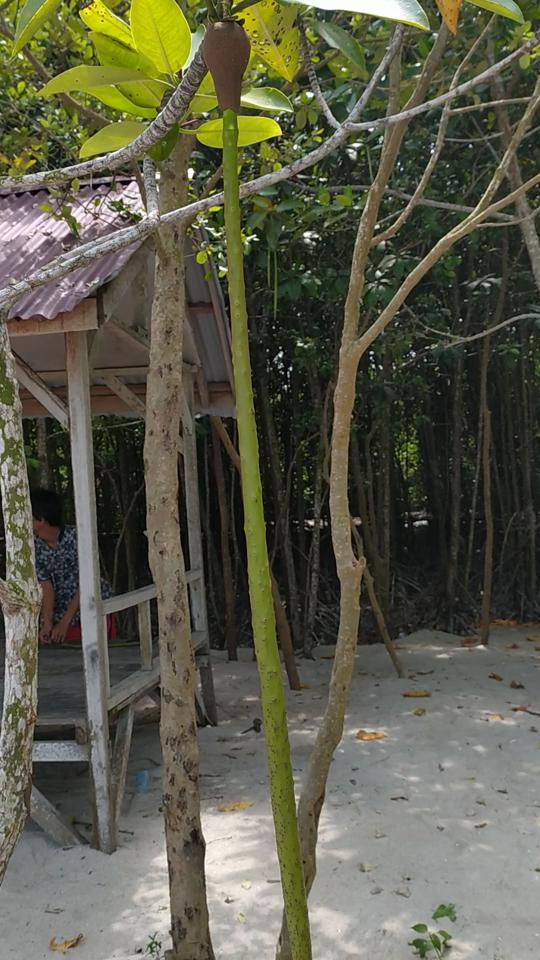mentah: (180, 3, 335, 956)
